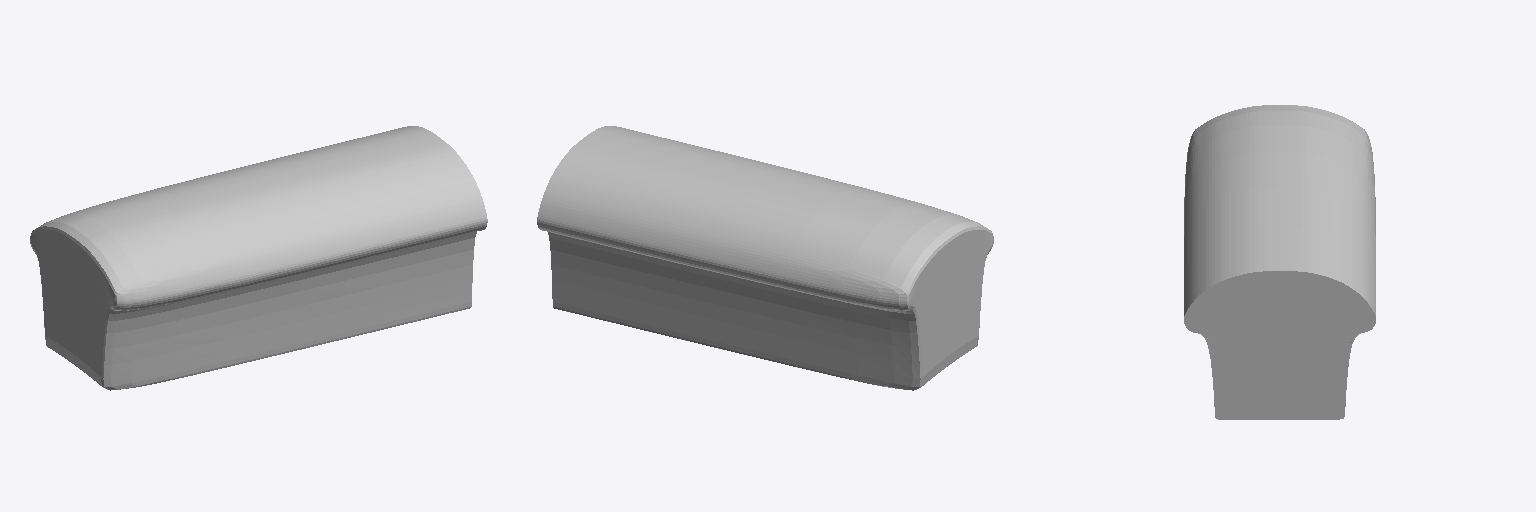
The model's file is loaf.obj.
3 views of the same model, side by side, from view 1: azimuth 30°, elevation 25°; view 2: azimuth 150°, elevation 25°; view 3: azimuth 270°, elevation 25° (orthographic).
Visible parts, largest first — view 1: Cube_Cube.001; view 2: Cube_Cube.001; view 3: Cube_Cube.001, Cube.002_Cube.003, Cube.001_Cube.002.
Boxes of the visible parts, <box> form: Cube_Cube.001: <box>30,126,487,390</box>; Cube_Cube.001: <box>537,126,993,390</box>; Cube_Cube.001: <box>1184,105,1375,342</box>; Cube.002_Cube.003: <box>1186,273,1373,417</box>; Cube.001_Cube.002: <box>1184,271,1375,419</box>.
Size of the model in its own units: 0.4901 by 0.1898 by 0.2232.